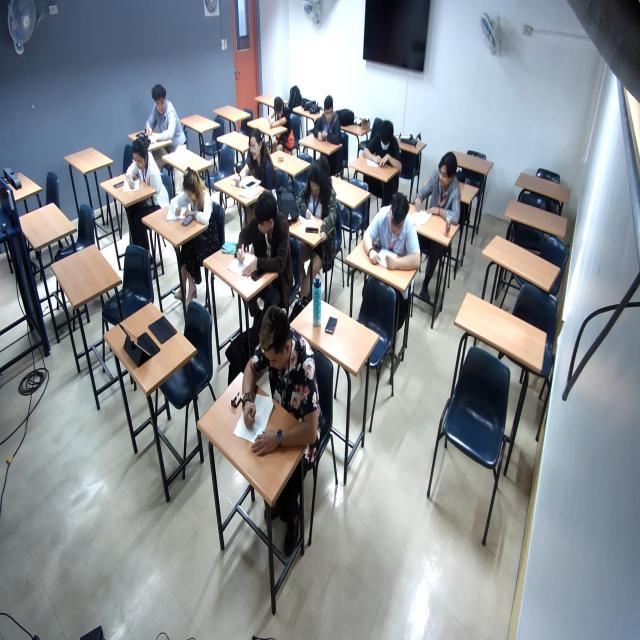read: (232, 314, 323, 464), (227, 204, 289, 288), (360, 200, 426, 277), (411, 150, 467, 234), (294, 159, 345, 249), (167, 163, 217, 233), (229, 135, 276, 199), (119, 140, 160, 207), (358, 121, 405, 179), (144, 85, 180, 148)
